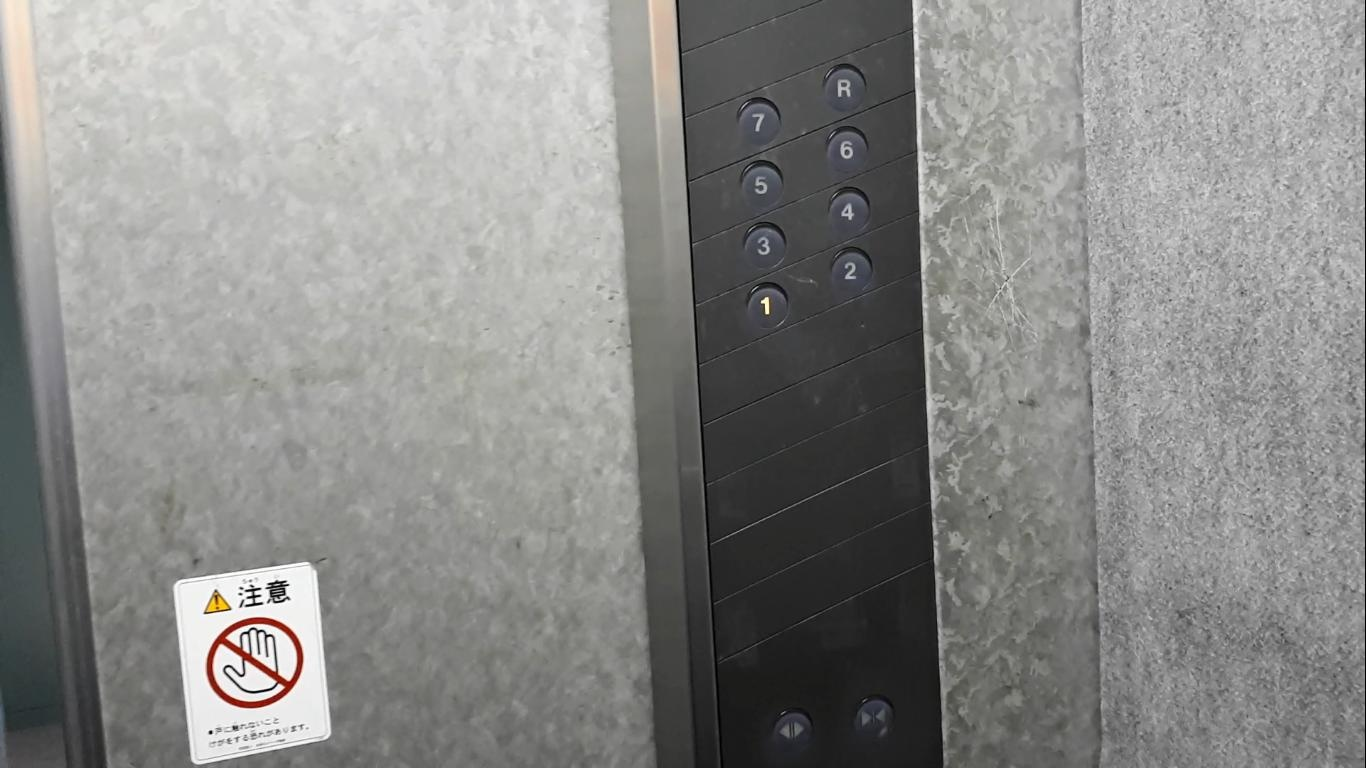1: (741, 278, 794, 338)
2: (824, 242, 875, 299)
3: (739, 220, 791, 274)
4: (822, 182, 874, 242)
5: (735, 156, 790, 216)
6: (825, 123, 873, 178)
7: (733, 93, 783, 151)
R: (819, 57, 873, 115)
close: (849, 693, 897, 748)
open: (767, 705, 818, 758)
